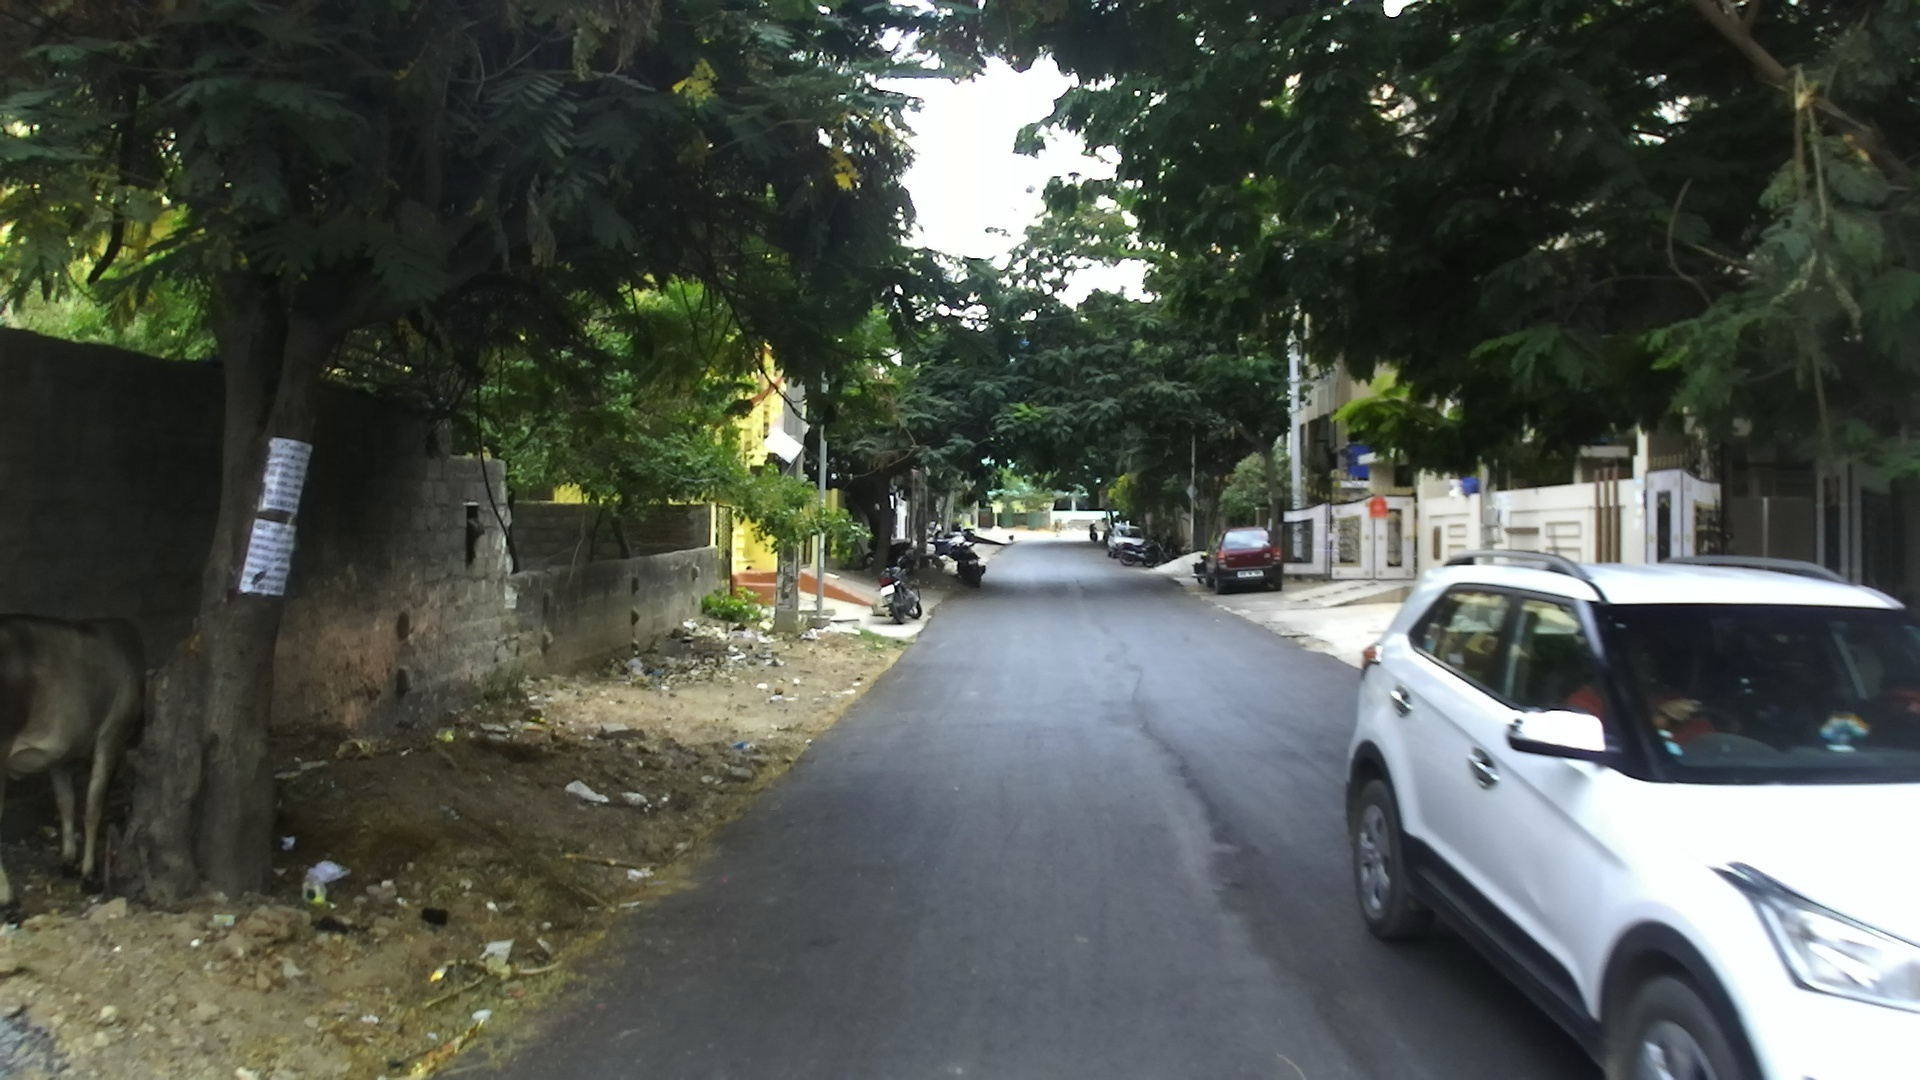vehicle: (1340, 549, 1919, 1079), (1209, 527, 1283, 593), (1106, 531, 1149, 567)
